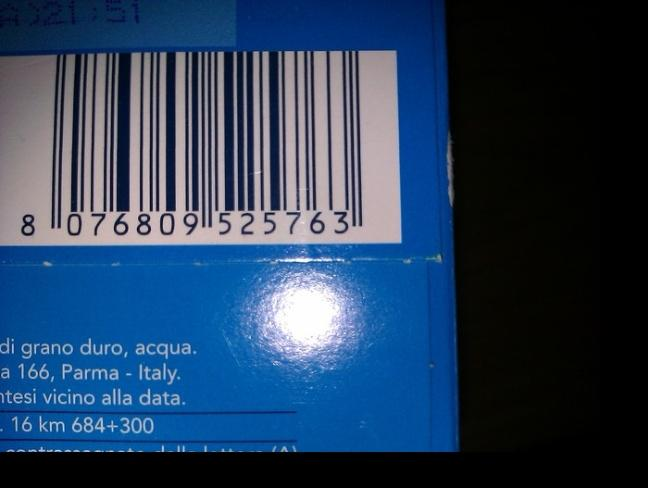Barcode: (4, 50, 396, 241)
